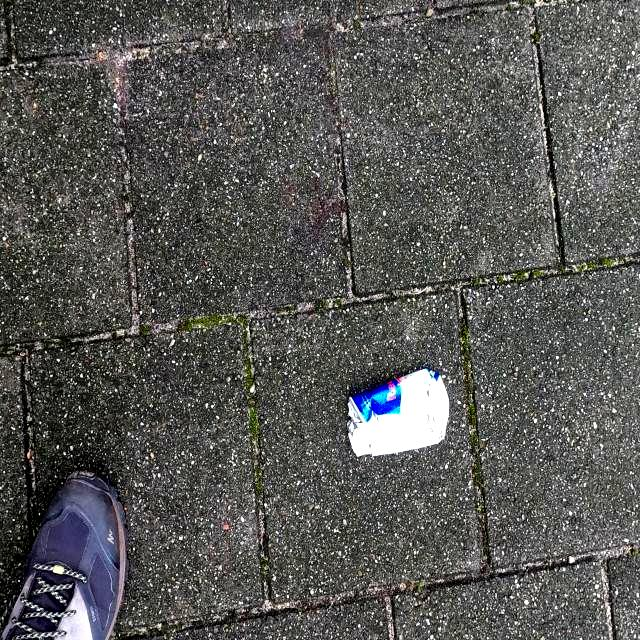Metal: (346, 364, 450, 458)
